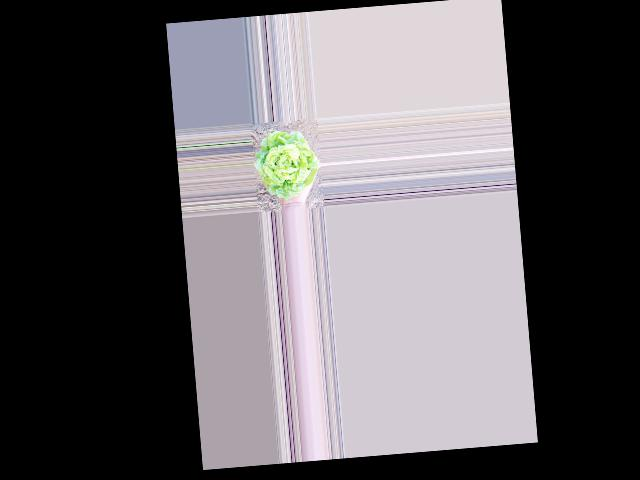lettuce: (253, 126, 319, 197)
